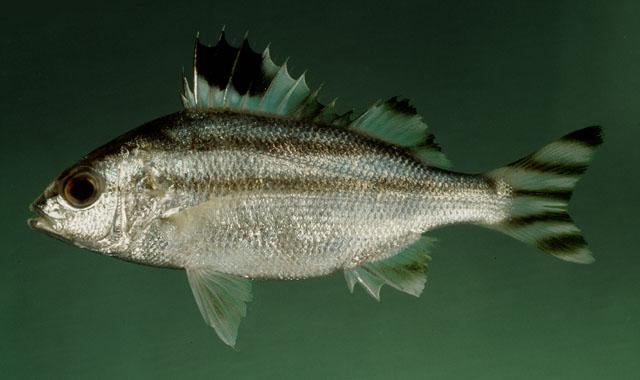Mulut: (22, 189, 66, 237)
Sirip Anal: (343, 226, 445, 310)
Sirip Dada: (156, 184, 280, 240)
Sirip Ekor: (498, 117, 618, 275)
Sirip Perut: (176, 260, 264, 352)
Sirip Punggung: (173, 24, 465, 176)
